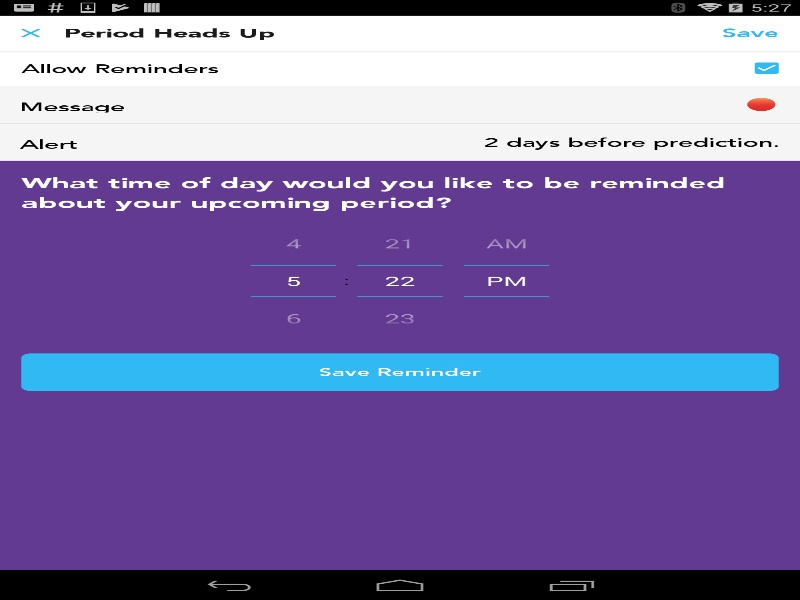Button: (250, 295, 336, 337), (357, 295, 442, 337), (250, 224, 336, 265), (463, 224, 549, 265), (357, 224, 442, 265)
Input: (250, 265, 336, 295), (463, 265, 549, 295), (357, 265, 442, 295)
